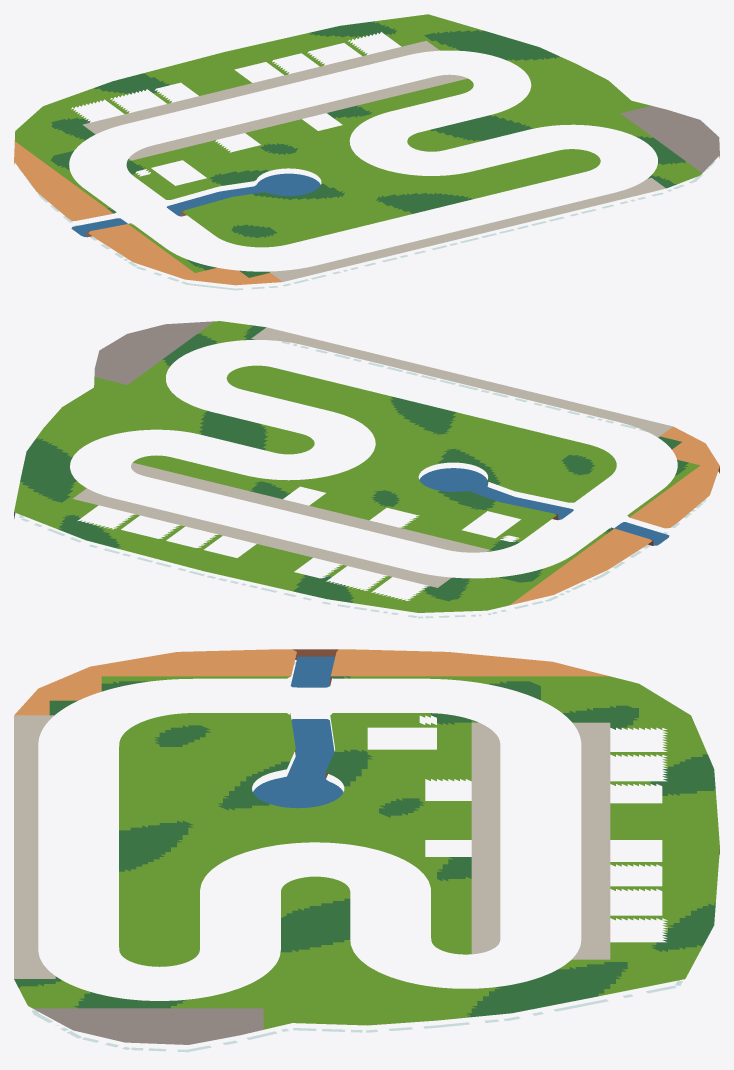
The model's file is ground.glb.
3 views of the same model, one above another, from view 1: azimuth 30°, elevation 25°; view 2: azimuth 150°, elevation 25°; view 3: azimuth 270°, elevation 25° (orthographic). The views are drawn at different scales.
Parts seen in each view (by area): view 1: ground; view 2: ground; view 3: ground.
Boxes of the visible parts, <box> form: ground: <box>14,14,719,290</box>; ground: <box>14,321,719,618</box>; ground: <box>14,649,719,1052</box>.
Bounding box in the file's own units: 81.4 × 1 × 61.1.
